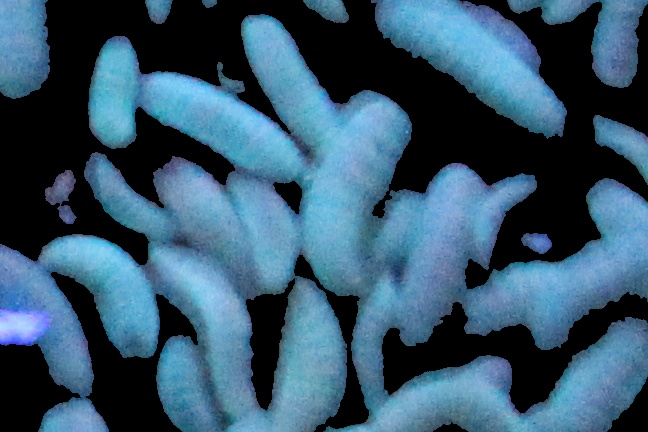larvae: (377, 1, 569, 131), (304, 89, 408, 291), (390, 152, 495, 348), (134, 70, 311, 184), (45, 228, 169, 366), (154, 249, 259, 405), (524, 315, 648, 432), (235, 18, 335, 148), (1, 245, 86, 386), (473, 247, 627, 324), (270, 283, 349, 429), (147, 149, 243, 269), (371, 368, 521, 432), (74, 153, 171, 240), (231, 172, 298, 291), (344, 290, 408, 402), (87, 35, 144, 157), (467, 169, 530, 263), (1, 1, 56, 106), (153, 332, 212, 429), (266, 1, 352, 35)
